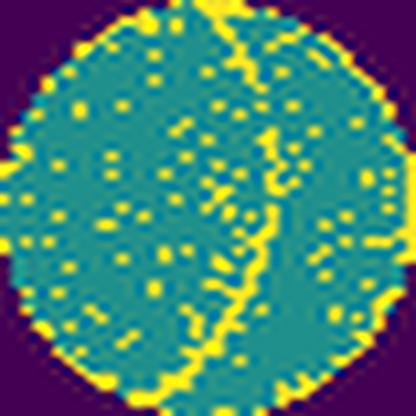Scratch: (133, 199, 285, 407), (189, 0, 279, 92)
